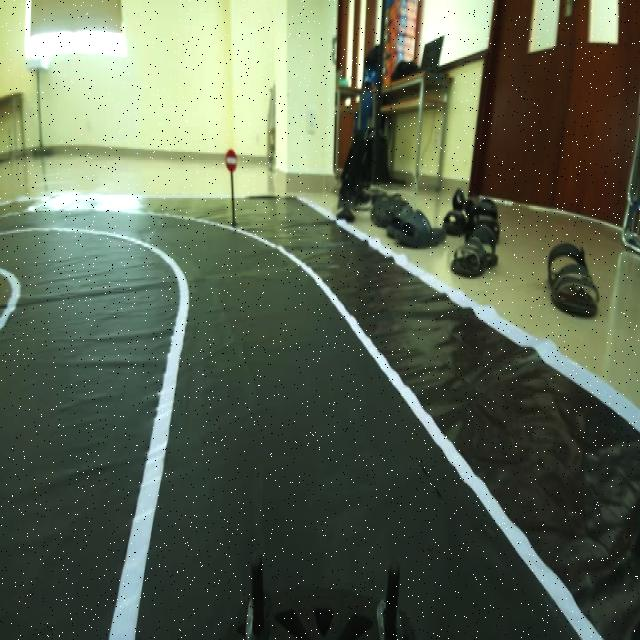no_entry: (221, 147, 241, 171)
